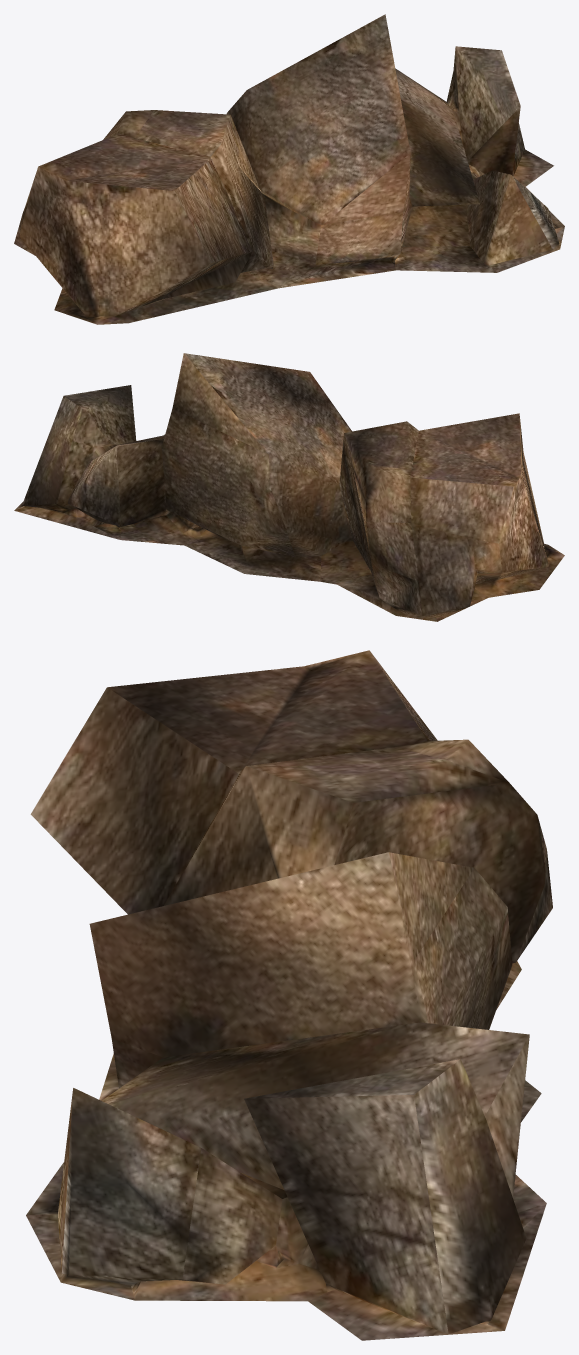
File: boulder_desert.glb
The picture shows the model from 3 angles, top to bottom: view 1: azimuth 30°, elevation 25°; view 2: azimuth 150°, elevation 25°; view 3: azimuth 270°, elevation 25°; orthographic projection. The views are drawn at different scales.
Visible parts, largest first — view 1: boulder_02; view 2: boulder_02; view 3: boulder_02.
Part boxes in pixels (bbox=[...]): boulder_02: bbox=[14, 14, 564, 324]; boulder_02: bbox=[14, 353, 564, 621]; boulder_02: bbox=[26, 650, 552, 1340].
Size of the model in its own units: 2.4 by 0.8563 by 1.14.
1 material, 1 textured.
